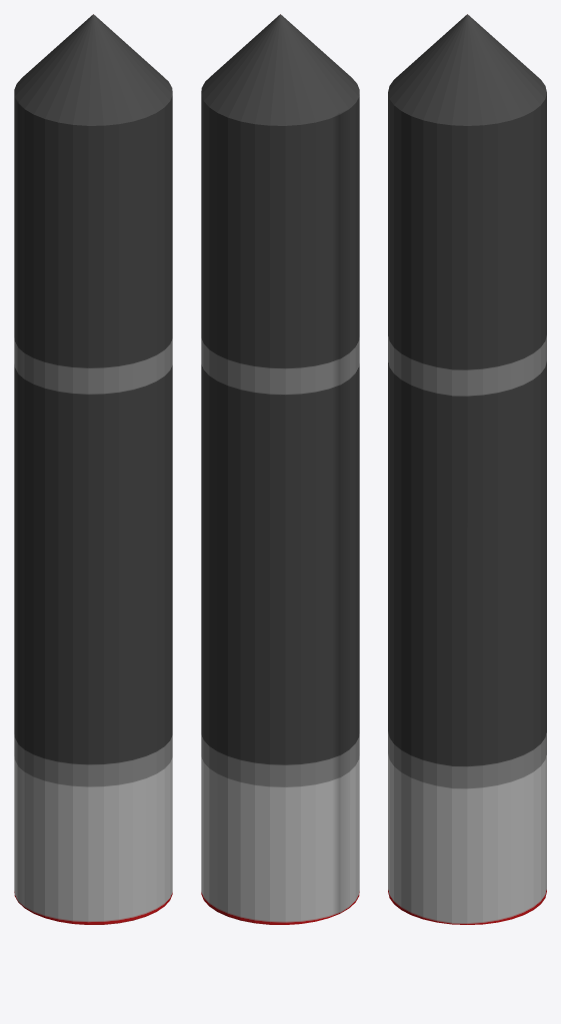
File: lunar_rocket.obj
The picture shows the model from 3 angles, left to right: view 1: azimuth 30°, elevation 25°; view 2: azimuth 150°, elevation 25°; view 3: azimuth 270°, elevation 25°; orthographic projection.
Visible parts, largest first — view 1: ICBM; view 2: ICBM; view 3: ICBM.
Boxes of the visible parts, <box> form: ICBM: <box>14,14,172,924</box>; ICBM: <box>201,14,359,924</box>; ICBM: <box>388,14,546,924</box>.
Size of the model in its own units: 3 by 20.27 by 3.
